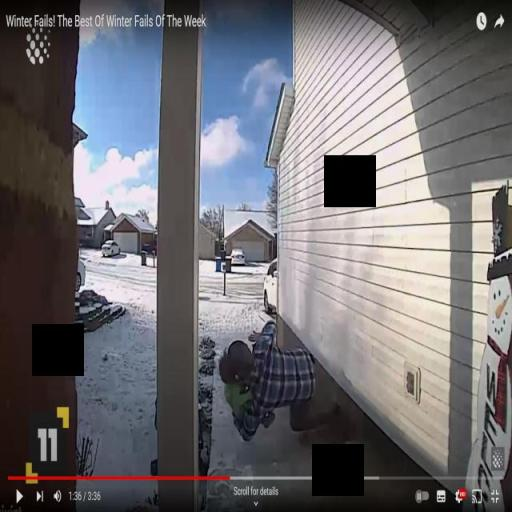Fall: (217, 317, 345, 445)
